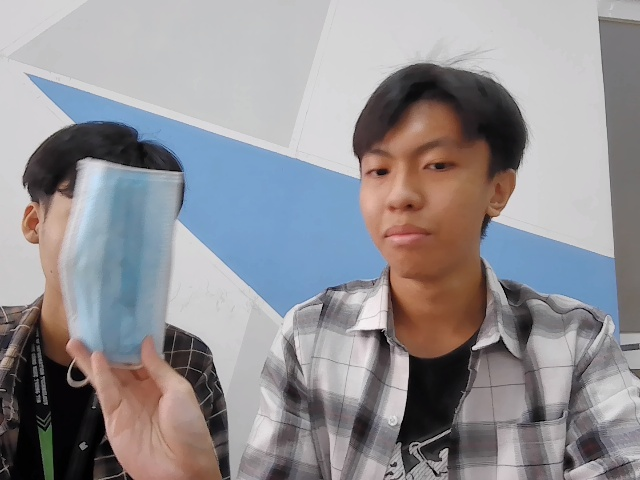human: (354, 60, 524, 283)
mask: (64, 154, 176, 368)
